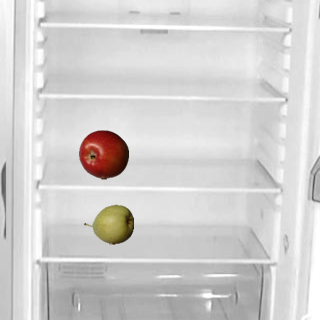Apple Braeburn: (78, 129, 128, 179)
Pear: (83, 199, 133, 249)
